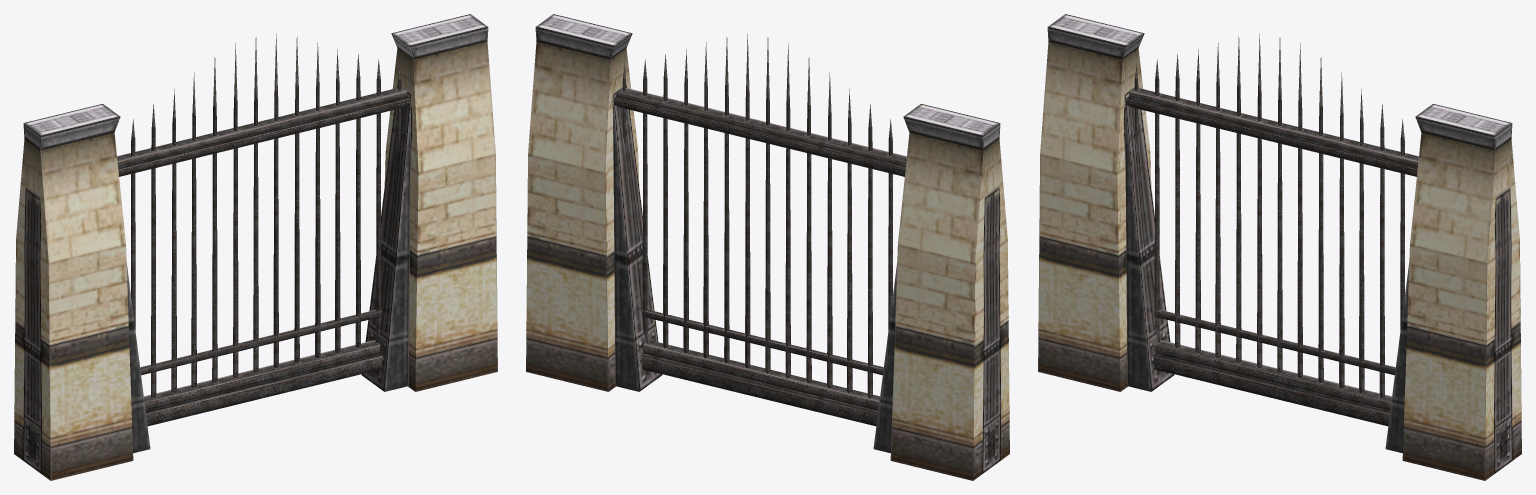
The model's file is jail_wall_base.glb.
The picture shows the model from 3 angles, left to right: view 1: azimuth 30°, elevation 25°; view 2: azimuth 150°, elevation 25°; view 3: azimuth 330°, elevation 25°; orthographic projection.
Parts seen in each view (by area): view 1: MeshRoot; view 2: MeshRoot; view 3: MeshRoot.
Part boxes in pixels (bbox=[...]): MeshRoot: bbox=[14, 14, 497, 480]; MeshRoot: bbox=[526, 14, 1009, 480]; MeshRoot: bbox=[1038, 14, 1521, 480].
Size of the model in its own units: 6.69 by 5.45 by 0.9531.
Materials: 1 (1 with a texture image).
